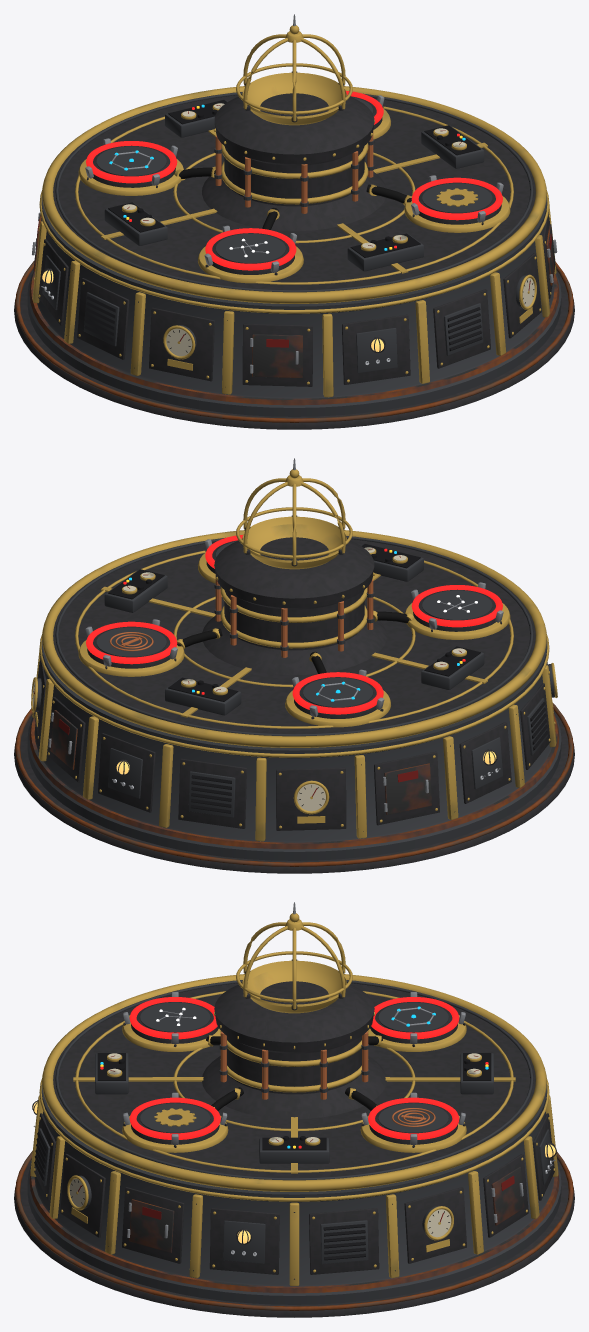
The model's file is console.glb.
3 views of the same model, one above another, from view 1: azimuth 30°, elevation 25°; view 2: azimuth 150°, elevation 25°; view 3: azimuth 270°, elevation 25° (orthographic).
Visible parts, largest first — view 1: console_iron_m, console_brass_m, console_darkMetal_m, kickBand, floorRust, bayPlate13, bay15_iron_m, bayPlate14, hatch14, bayPlate0, bayPlate12, slot0_brass_m (+31 smaller); view 2: console_iron_m, console_brass_m, console_darkMetal_m, kickBand, floorRust, bayPlate9, bayPlate8, bay7_iron_m, bayPlate10, bay11_iron_m, hatch10, socketPad3 (+31 smaller); view 3: console_iron_m, console_brass_m, console_darkMetal_m, kickBand, floorRust, bay3_iron_m, bayPlate5, bayPlate4, bayPlate2, bayPlate1, hatch2, socketPad3 (+33 smaller).
Part boxes in pixels (<box>): console_iron_m: <box>14,71,574,429</box>; console_brass_m: <box>32,25,556,397</box>; console_darkMetal_m: <box>27,92,561,416</box>; kickBand: <box>29,271,559,405</box>; floorRust: <box>15,260,573,422</box>; bayPlate13: <box>149,307,214,381</box>; bay15_iron_m: <box>342,314,410,384</box>; bayPlate14: <box>242,323,312,386</box>; hatch14: <box>252,334,302,377</box>; bayPlate0: <box>433,289,490,368</box>; bayPlate12: <box>77,278,129,359</box>; slot0_brass_m: <box>404,188,510,232</box>; console_iron_m: <box>14,515,574,873</box>; console_brass_m: <box>32,469,556,841</box>; console_darkMetal_m: <box>27,536,561,860</box>; kickBand: <box>29,713,559,849</box>; floorRust: <box>15,703,573,866</box>; bayPlate9: <box>276,767,346,830</box>; bayPlate8: <box>178,758,246,828</box>; bay7_iron_m: <box>98,733,155,812</box>; bayPlate10: <box>374,751,439,825</box>; bay11_iron_m: <box>459,722,511,803</box>; hatch10: <box>384,763,431,814</box>; socketPad3: <box>422,590,492,620</box>; console_iron_m: <box>14,959,574,1317</box>; console_brass_m: <box>30,913,558,1285</box>; console_darkMetal_m: <box>27,980,561,1304</box>; kickBand: <box>29,1172,559,1293</box>; floorRust: <box>15,1151,573,1310</box>; bay3_iron_m: <box>209,1208,279,1274</box>; bayPlate5: <box>404,1187,466,1263</box>; bayPlate4: <box>309,1208,379,1274</box>; bayPlate2: <box>122,1187,184,1263</box>; bayPlate1: <box>60,1154,105,1237</box>; hatch2: <box>129,1199,174,1252</box>; socketPad3: <box>140,1002,210,1032</box>.
Bounding box in the file's own units: 3.99 × 2.34 × 3.99.
18 materials, 9 textured.
